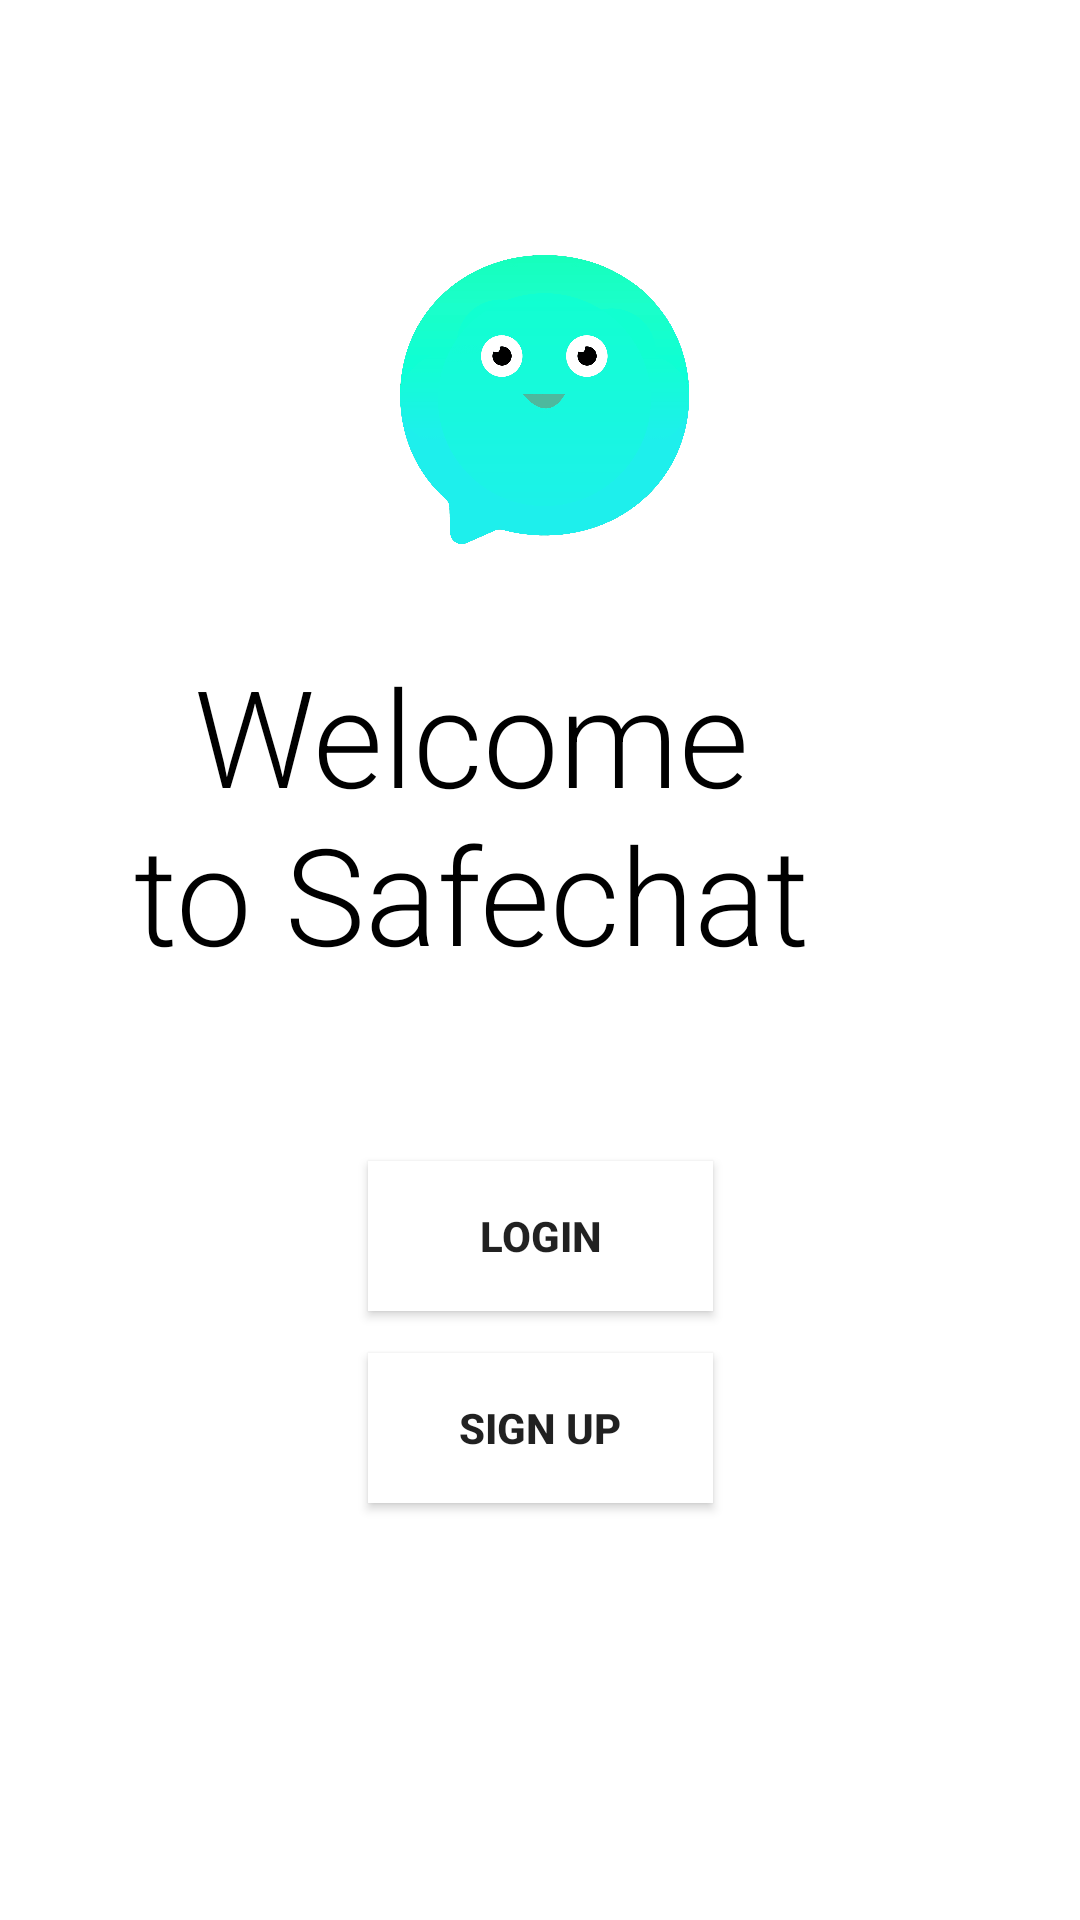

Named icons in this screenshot (1080*1920) and their bounding boxes, [x1, y1, x2, y2]:
safechaticon: [400, 255, 689, 544]
